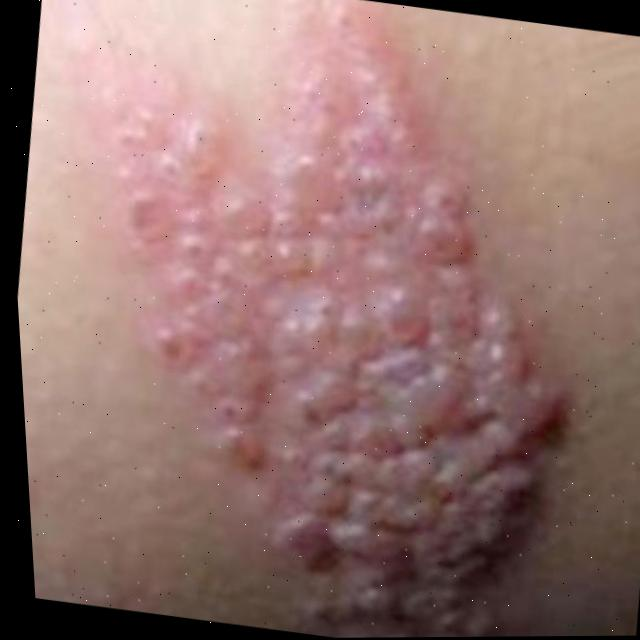Shingles: (49, 0, 624, 640)
